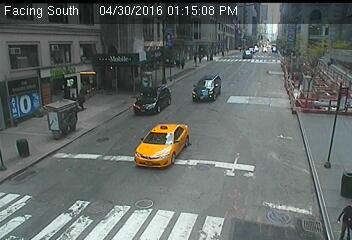neg: (83, 66, 99, 86)
